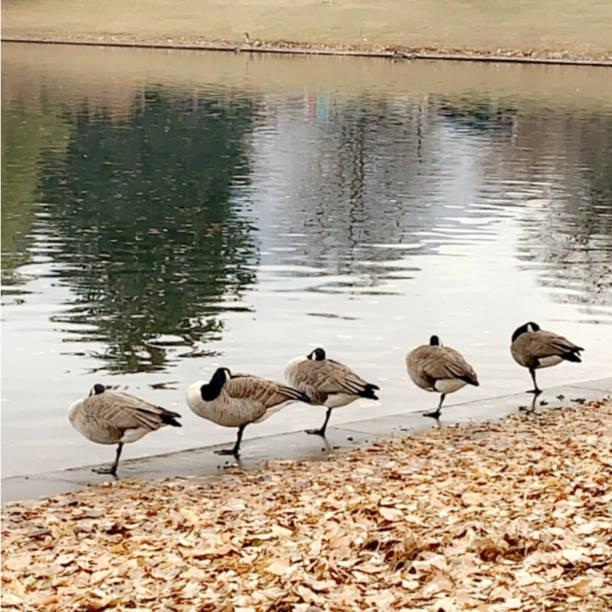Canadian-Goose: (186, 366, 300, 459), (68, 381, 179, 476), (289, 347, 381, 436), (404, 334, 482, 420), (508, 319, 580, 396)
